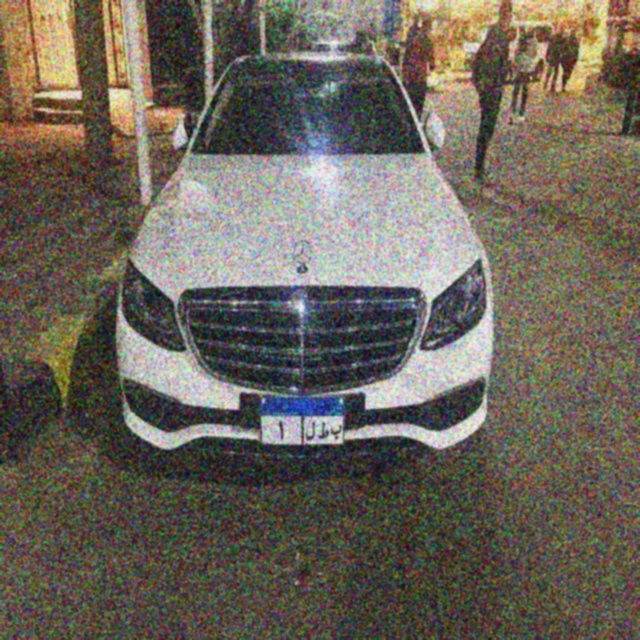License Plate: (258, 393, 347, 449)
